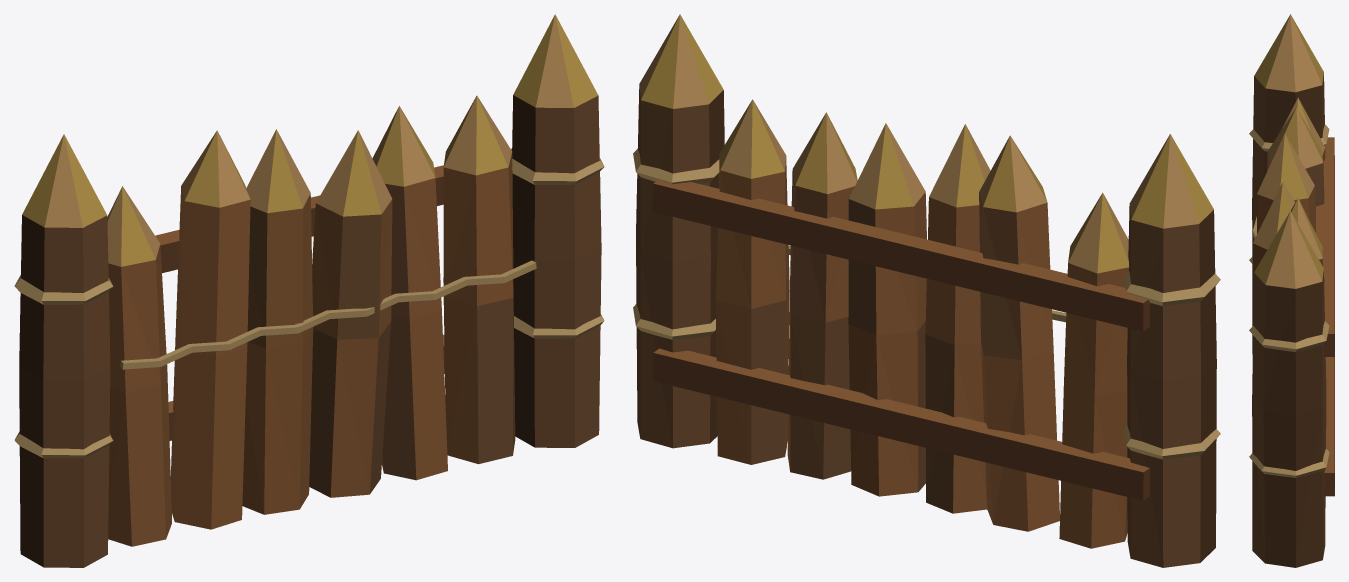
The model's file is palisade.glb.
3 views of the same model, side by side, from view 1: azimuth 30°, elevation 25°; view 2: azimuth 150°, elevation 25°; view 3: azimuth 270°, elevation 25° (orthographic). The views are drawn at different scales.
Parts seen in each view (by area): view 1: palisade; view 2: palisade; view 3: palisade.
Part boxes in pixels (left/top/right/bottom): palisade: left=14, top=14, right=604, bottom=567; palisade: left=633, top=14, right=1220, bottom=567; palisade: left=1249, top=14, right=1334, bottom=567.
Bounding box in the file's own units: 2.35 × 1.62 × 0.3693.
